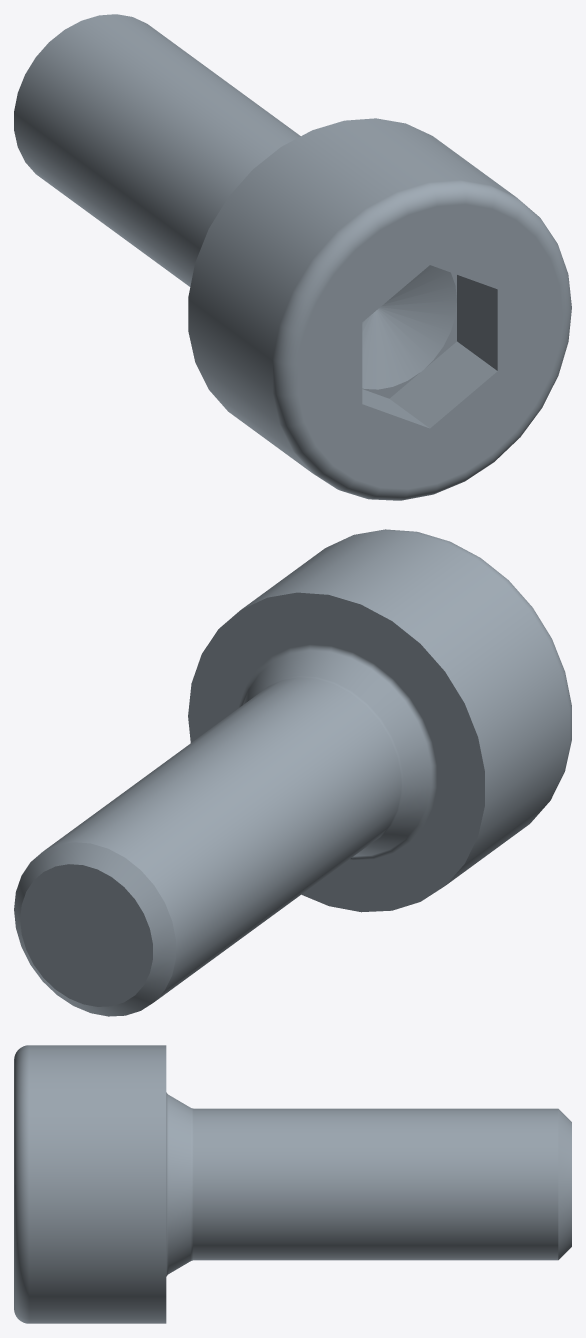
File: Hex_socket_head_cap_screw_M3x0_50_x_8.obj
3 renders of one model, top to bottom at view 1: azimuth 30°, elevation 25°; view 2: azimuth 150°, elevation 25°; view 3: azimuth 270°, elevation 25°, orthographic. The views are drawn at different scales.
Visible parts, largest first — view 1: mesh880, mesh887, mesh885, mesh886, mesh895, mesh893, mesh888, mesh892; view 2: mesh880, mesh885, mesh884, mesh878, mesh882, mesh879, mesh883, mesh886, mesh881; view 3: mesh880, mesh885, mesh886, mesh882, mesh879, mesh883, mesh881.
Part boxes in pixels (box(x1,y1,x2,y2)): mesh880: box(14, 14, 300, 286); mesh887: box(298, 204, 562, 488); mesh885: box(188, 118, 515, 472); mesh886: box(272, 180, 571, 500); mesh895: box(362, 265, 456, 389); mesh893: box(389, 341, 497, 428); mesh888: box(457, 275, 497, 370); mesh892: box(362, 389, 429, 428); mesh880: box(43, 677, 401, 1001); mesh885: box(241, 530, 569, 884); mesh884: box(188, 592, 484, 912); mesh878: box(20, 864, 152, 1006); mesh882: box(243, 650, 430, 856); mesh879: box(14, 842, 175, 1016); mesh883: box(238, 644, 436, 860); mesh886: box(328, 529, 571, 822); mesh881: box(261, 675, 403, 842); mesh880: box(193, 1108, 558, 1260); mesh885: box(29, 1045, 166, 1323); mesh886: box(14, 1045, 29, 1323); mesh882: box(168, 1095, 190, 1273); mesh879: box(558, 1109, 571, 1259); mesh883: box(166, 1092, 168, 1276); mesh881: box(191, 1108, 193, 1260).
Size of the model in its own units: 0.00548 by 0.00549 by 0.011.
